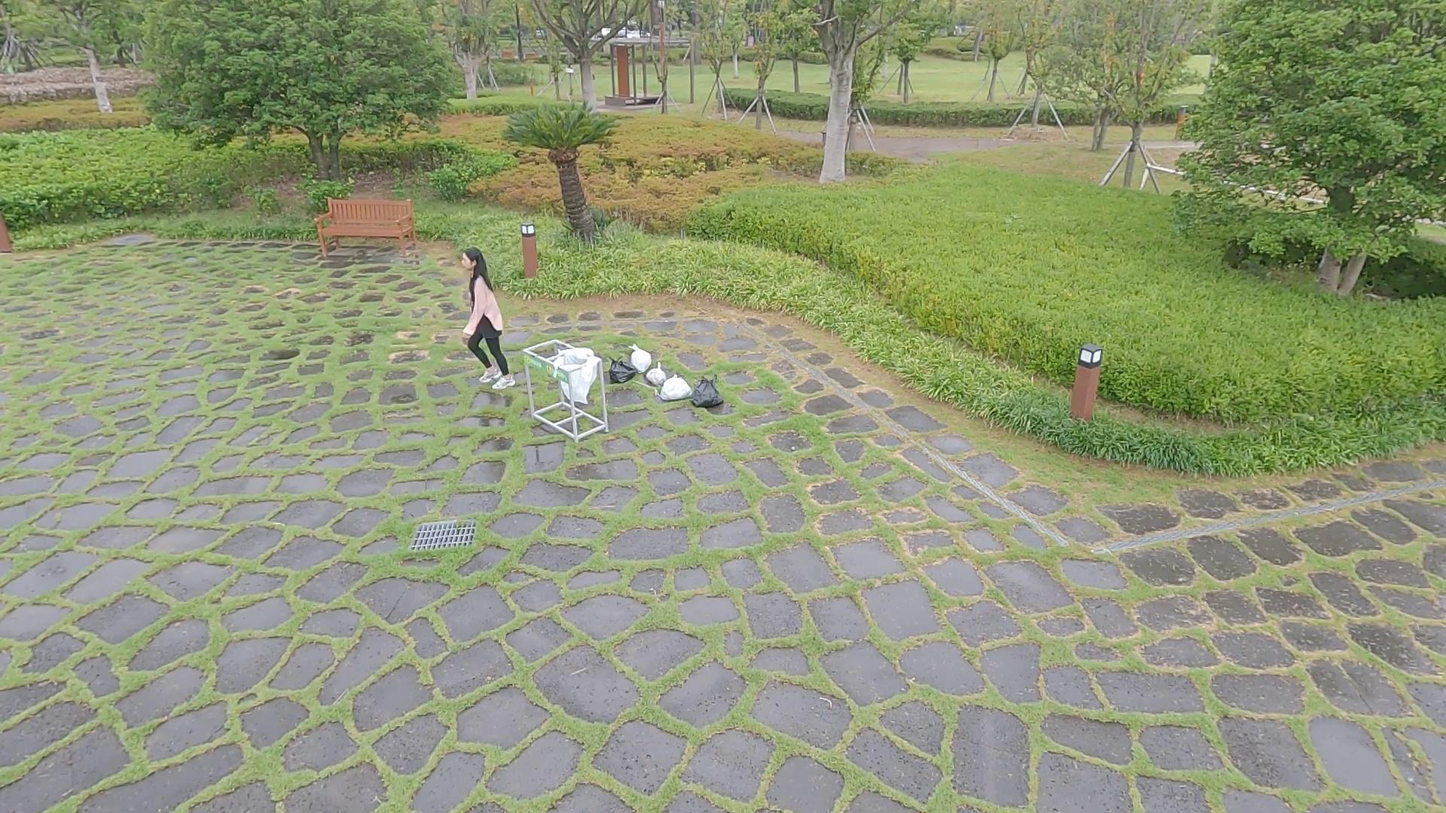person: (456, 246, 520, 392)
trash: (690, 372, 725, 411), (659, 367, 693, 405), (605, 355, 639, 386), (642, 358, 669, 389), (628, 341, 651, 376)
